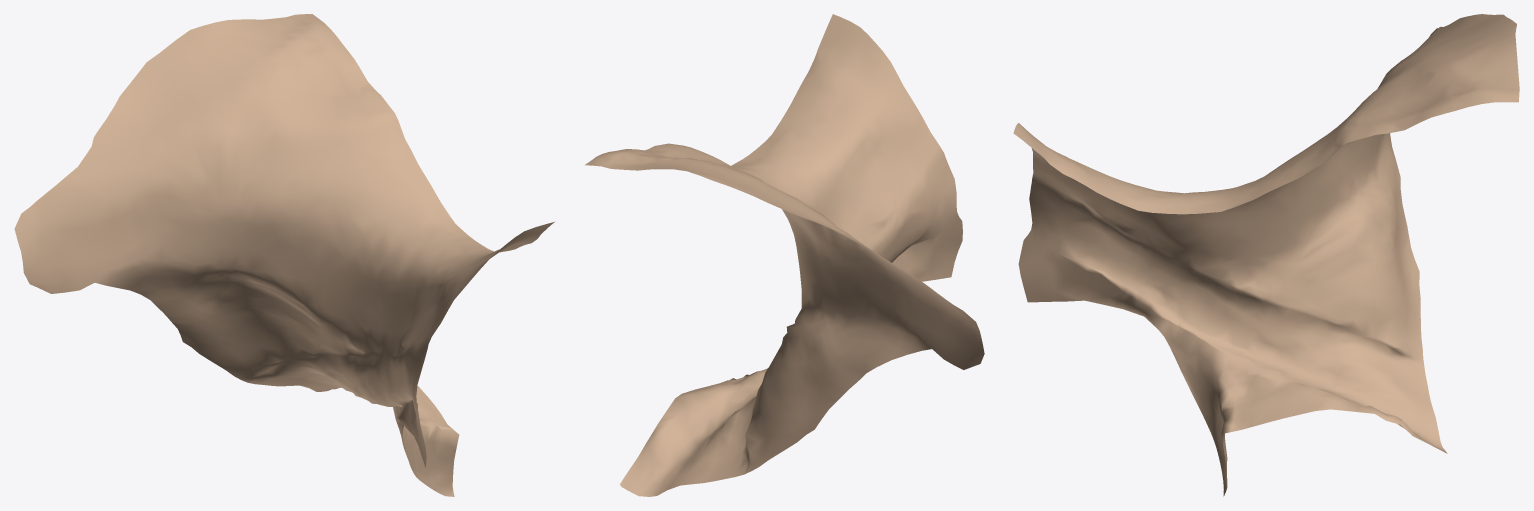
The picture shows the model from 3 angles, left to right: view 1: azimuth 30°, elevation 25°; view 2: azimuth 150°, elevation 25°; view 3: azimuth 270°, elevation 25°; orthographic projection. The views are drawn at different scales.
Visible parts, largest first — view 1: 右侧颈筋膜浅层; view 2: 右侧颈筋膜浅层; view 3: 右侧颈筋膜浅层.
Part boxes in pixels (box(x1,y1,x2,y2)): 右侧颈筋膜浅层: box(14, 14, 554, 496); 右侧颈筋膜浅层: box(585, 14, 984, 496); 右侧颈筋膜浅层: box(1013, 14, 1519, 496).
Bounding box in the file's own units: 0.2597 × 0.2855 × 0.3176.
